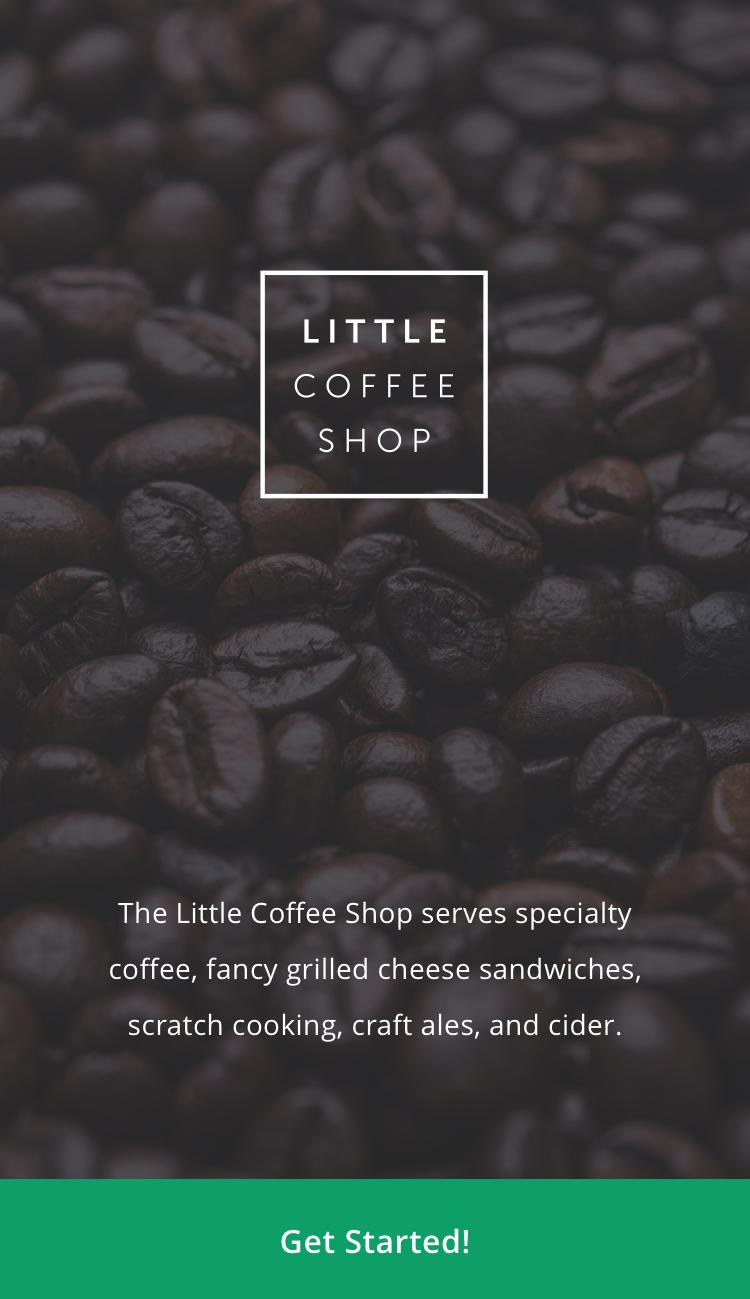BackgroundImage: (1, 1, 750, 1179)
Image: (260, 270, 489, 500)
Text: (109, 900, 641, 1043)
TextButton: (1, 1179, 750, 1299)
